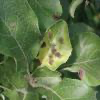Apple Scab Leaf: (0, 1, 43, 76), (36, 17, 72, 72)
